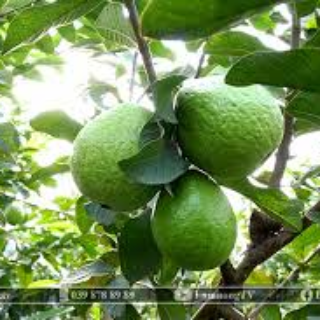oi: (165, 70, 289, 184), (66, 95, 170, 213), (156, 168, 244, 274)
